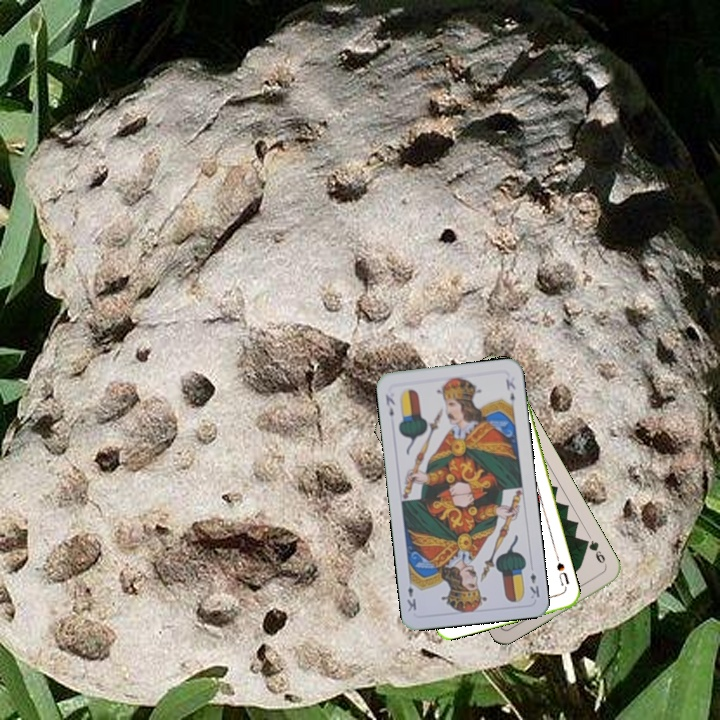EK: (526, 569, 542, 601), (381, 390, 398, 419)
G9: (580, 535, 609, 570)
SU: (552, 558, 571, 592)
